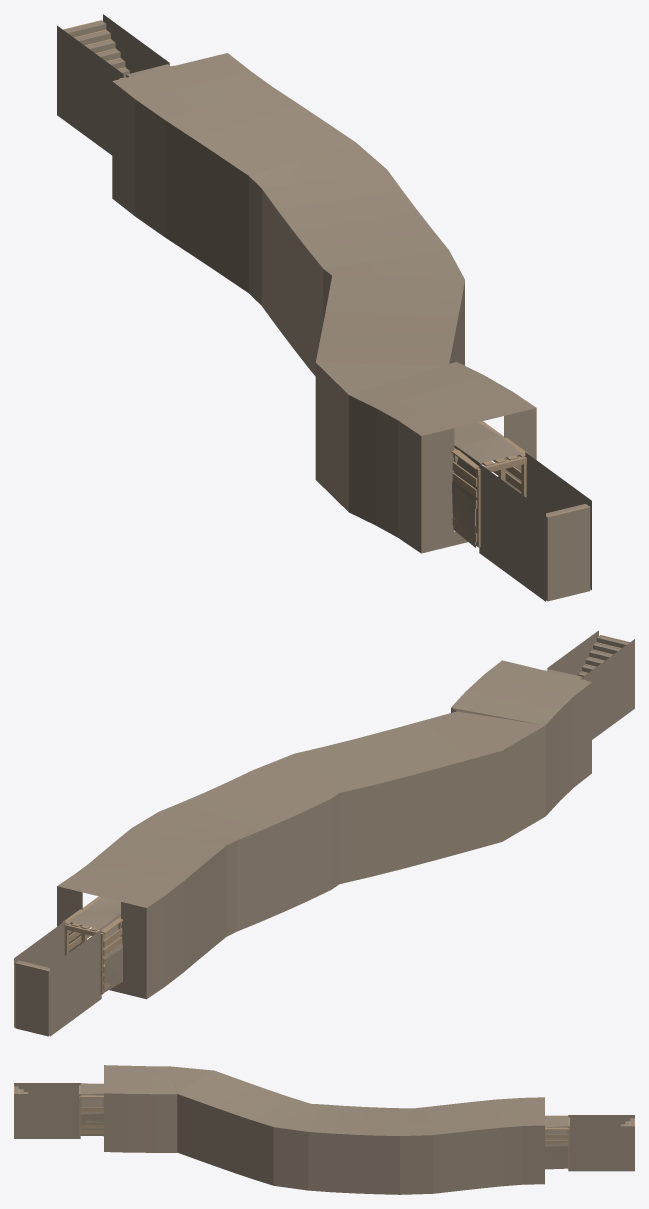
Rendered from tunnel_b1_b5.glb.
3 views of the same model, one above another, from view 1: azimuth 30°, elevation 25°; view 2: azimuth 150°, elevation 25°; view 3: azimuth 270°, elevation 25° (orthographic). The views are drawn at different scales.
Visible parts, largest first — view 1: tunnel_b1_b5__earth, tunnel_b1_b5__timber; view 2: tunnel_b1_b5__earth, tunnel_b1_b5__timber; view 3: tunnel_b1_b5__earth, tunnel_b1_b5__timber.
Boxes of the visible parts, bbox=[...] form: tunnel_b1_b5__earth: bbox=[57, 14, 591, 601]; tunnel_b1_b5__timber: bbox=[63, 20, 589, 547]; tunnel_b1_b5__earth: bbox=[14, 630, 634, 1036]; tunnel_b1_b5__timber: bbox=[15, 635, 630, 994]; tunnel_b1_b5__earth: bbox=[14, 1065, 634, 1194]; tunnel_b1_b5__timber: bbox=[14, 1083, 634, 1168].
Bounding box in the file's own units: 8.18 × 4.42 × 32.6.
